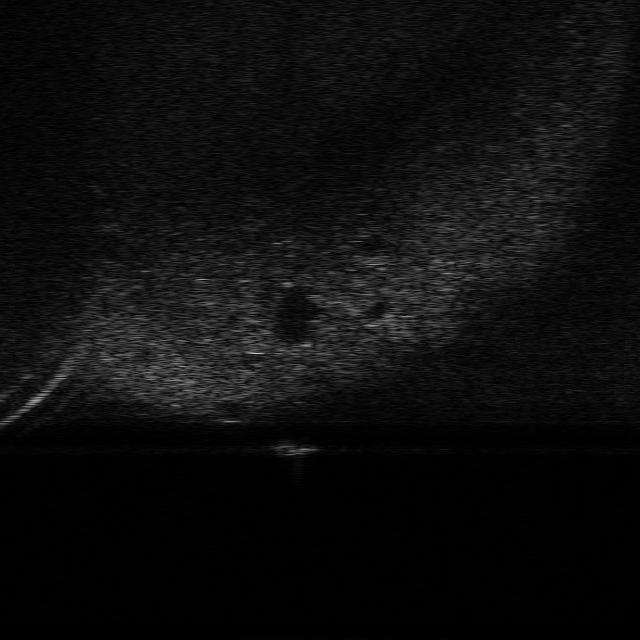cube: (268, 438, 322, 458)
